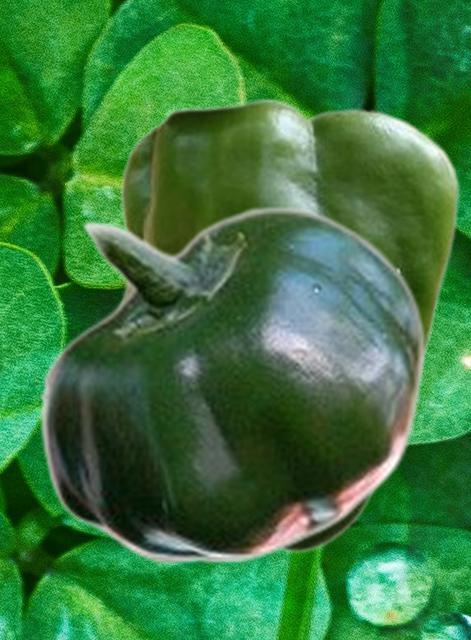bell_pepper: (117, 97, 461, 553), (37, 205, 425, 563)
